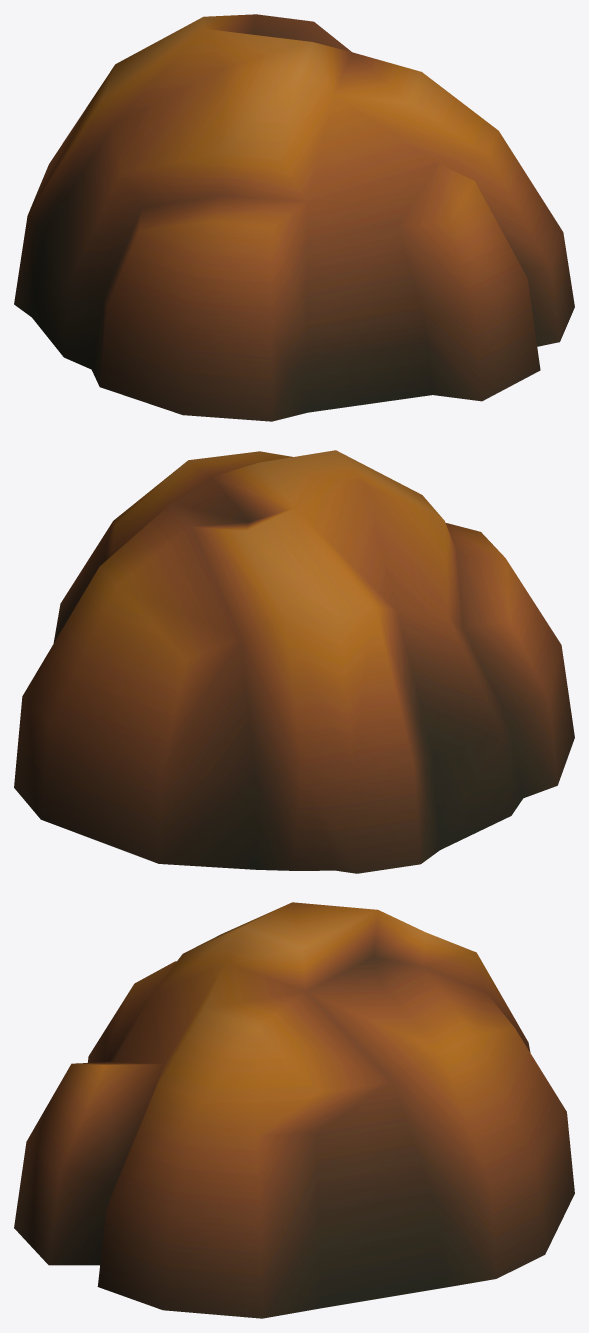
The model's file is m_Stone02_B.fbx.
3 renders of one model, top to bottom at view 1: azimuth 30°, elevation 25°; view 2: azimuth 150°, elevation 25°; view 3: azimuth 270°, elevation 25°, orthographic. The views are drawn at different scales.
Parts seen in each view (by area): view 1: m_Stone02_B; view 2: m_Stone02_B; view 3: m_Stone02_B.
Boxes of the visible parts, left/top/right/bottom form: m_Stone02_B: left=14, top=14, right=574, bottom=421; m_Stone02_B: left=14, top=450, right=574, bottom=873; m_Stone02_B: left=14, top=902, right=574, bottom=1318.
Bounding box in the file's own units: 500 × 278 × 526.
